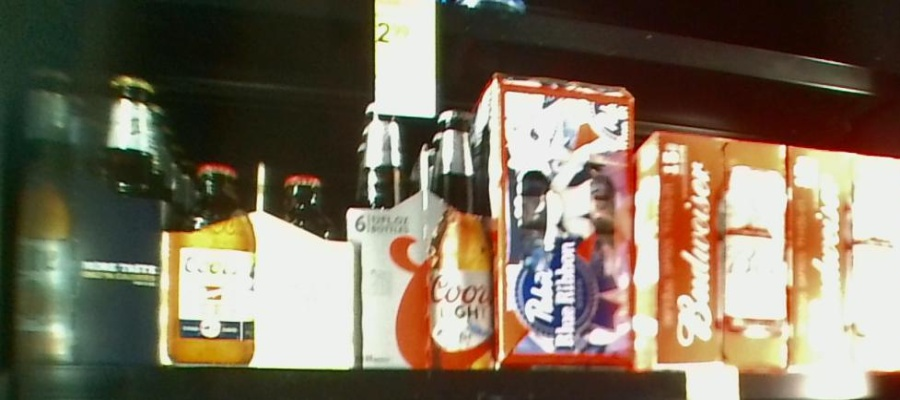bottle: (6, 73, 158, 362), (488, 75, 637, 366), (161, 158, 358, 367), (358, 101, 499, 368), (637, 131, 788, 368), (785, 145, 900, 368)
